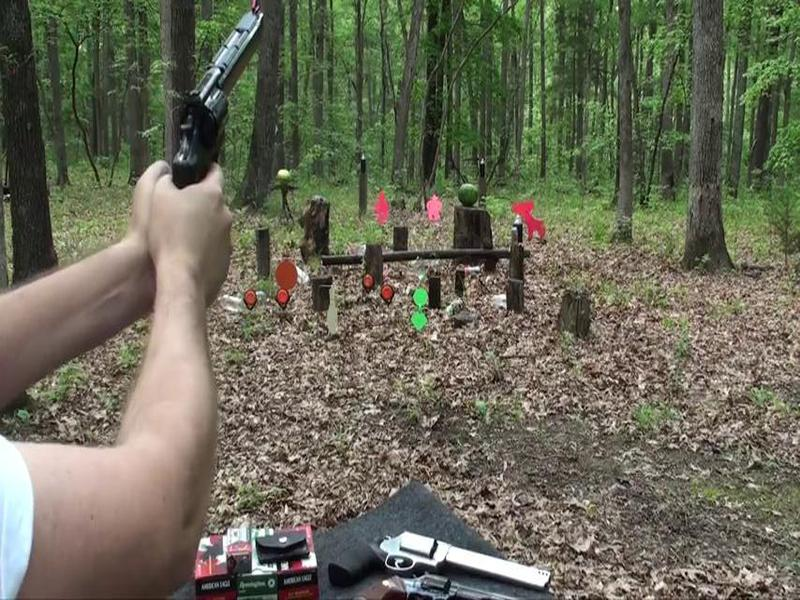Revolver: (133, 1, 294, 235)
